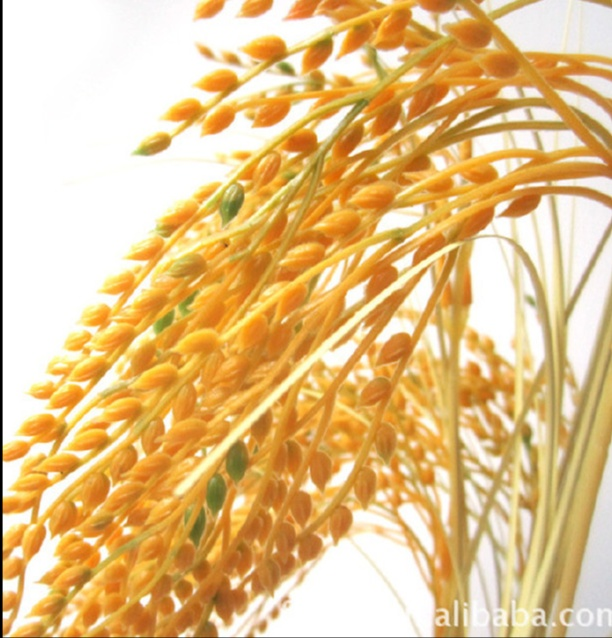rice: (14, 12, 543, 631)
